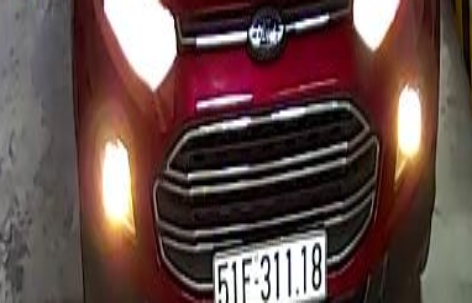plate: (207, 232, 338, 302)
